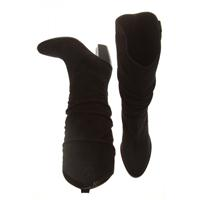shoe: (38, 36, 116, 193), (116, 13, 161, 178)
